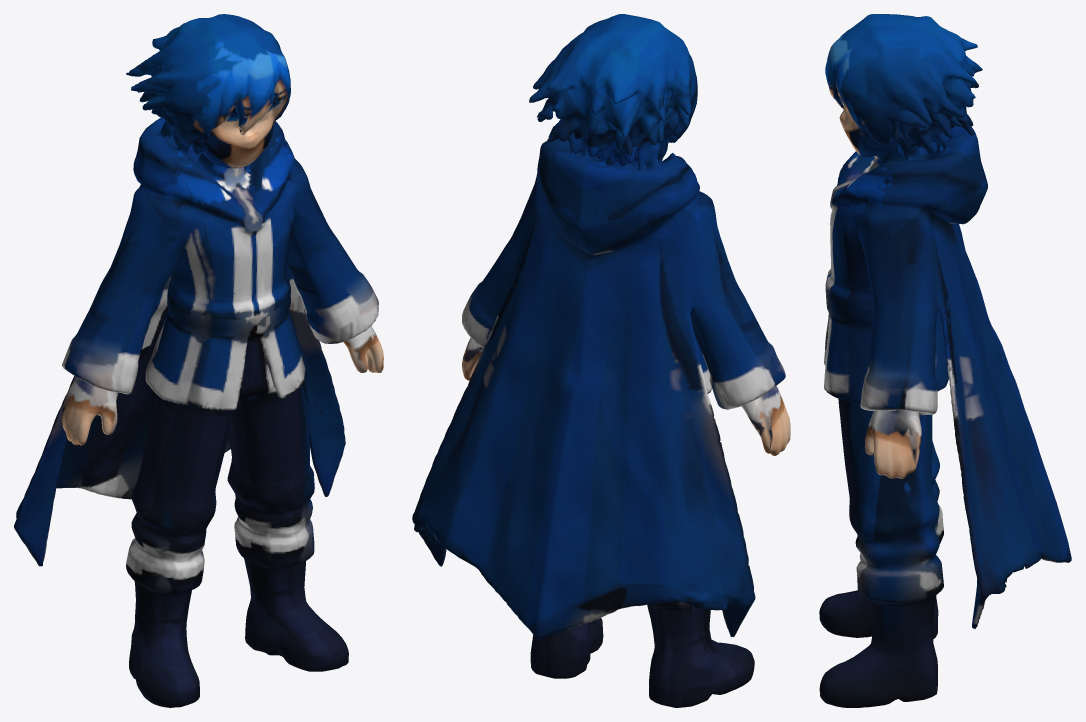
The model's file is magic_caster_body_production_v3.glb.
3 renders of one model, left to right at view 1: azimuth 30°, elevation 25°; view 2: azimuth 150°, elevation 25°; view 3: azimuth 270°, elevation 25°, orthographic. The views are drawn at different scales.
Parts seen in each view (by area): view 1: MagicCasterBody; view 2: MagicCasterBody; view 3: MagicCasterBody.
Boxes of the visible parts, x1,y1,x2,y2 form: MagicCasterBody: [14, 14, 383, 707]; MagicCasterBody: [412, 14, 790, 707]; MagicCasterBody: [819, 14, 1071, 707].
Size of the model in its own units: 1.09 by 2 by 0.7137.
Materials: 1 (1 with a texture image).
